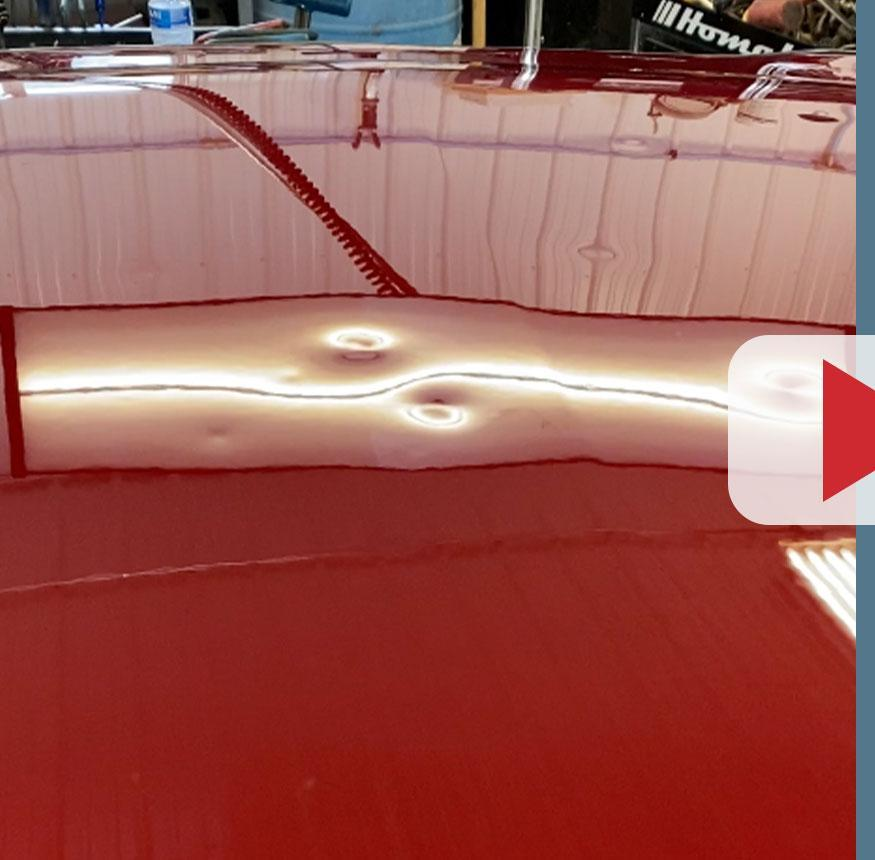dent: (273, 301, 493, 452), (182, 408, 252, 462)
